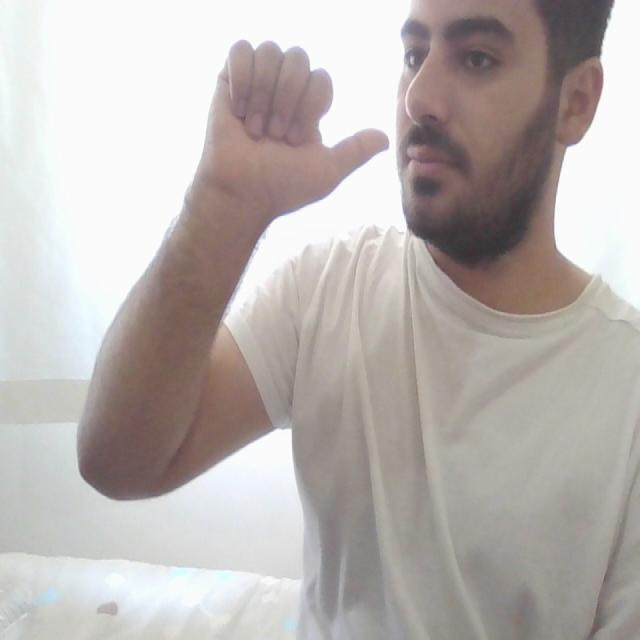icmek: (147, 45, 426, 224)
